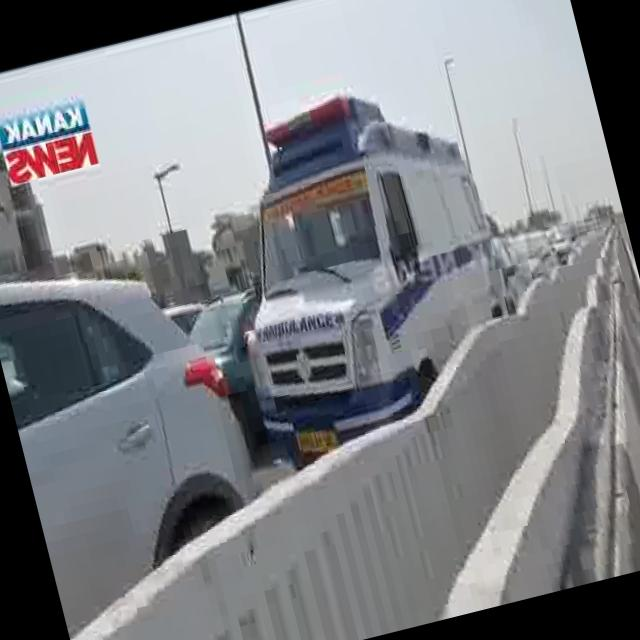ambulance: (176, 52, 537, 471)
